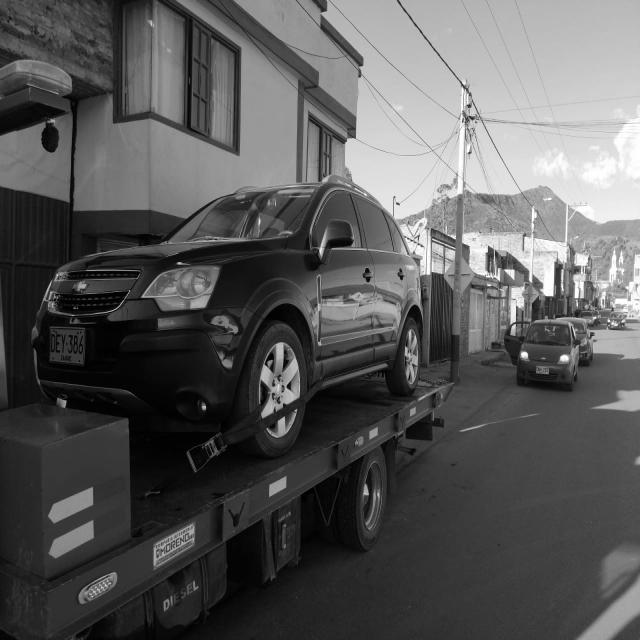plate: (46, 325, 86, 368)
